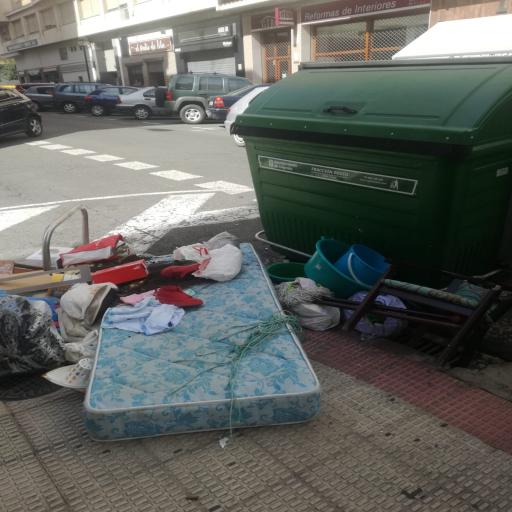Contenedor_Desbordado: (0, 57, 512, 441)
